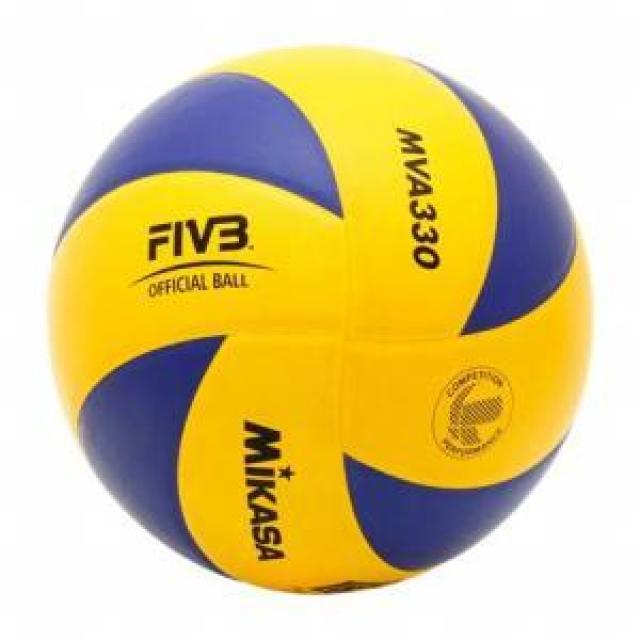volleyball: (49, 45, 597, 595)
